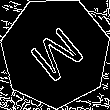M_SE: (22, 18, 88, 86)
